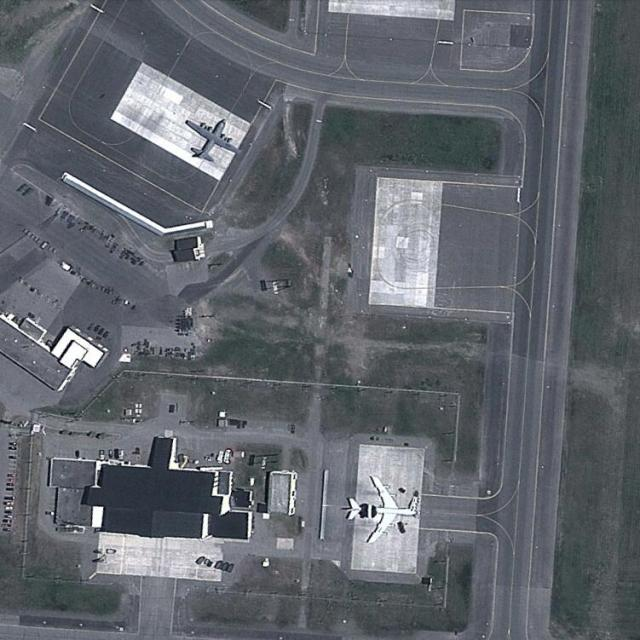fighter jet: (341, 472, 420, 542), (178, 110, 241, 164)
